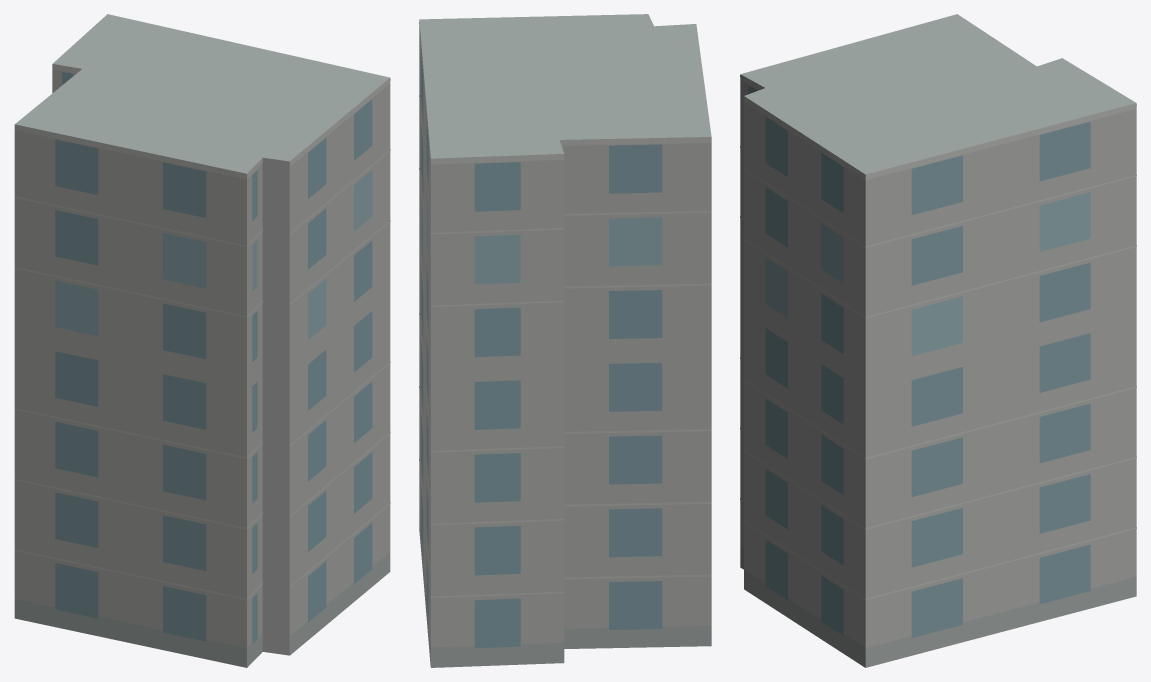
File: survey-upis-32743970.glb
The picture shows the model from 3 angles, left to right: view 1: azimuth 30°, elevation 25°; view 2: azimuth 150°, elevation 25°; view 3: azimuth 270°, elevation 25°; orthographic projection. The views are drawn at different scales.
Parts seen in each view (by area): view 1: survey-upis-32743970.tmp; view 2: survey-upis-32743970.tmp; view 3: survey-upis-32743970.tmp.
Boxes of the visible parts, <box> form: survey-upis-32743970.tmp: <box>14,14,390,667</box>; survey-upis-32743970.tmp: <box>419,14,711,667</box>; survey-upis-32743970.tmp: <box>740,14,1136,667</box>.
Bounding box in the file's own units: 14.47 × 20.7 × 15.09.
